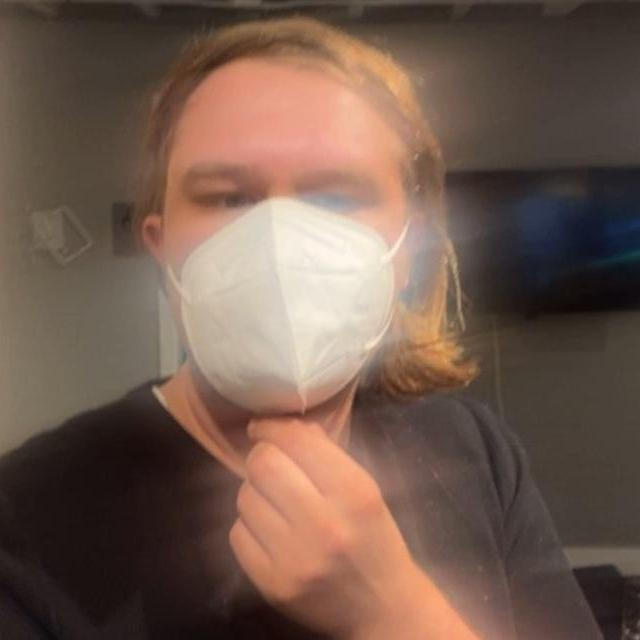Mask: (174, 201, 398, 407)
NO-Hardhat: (177, 22, 407, 139)
NO-Safety Vest: (5, 396, 514, 640)
Person: (0, 19, 640, 640)
